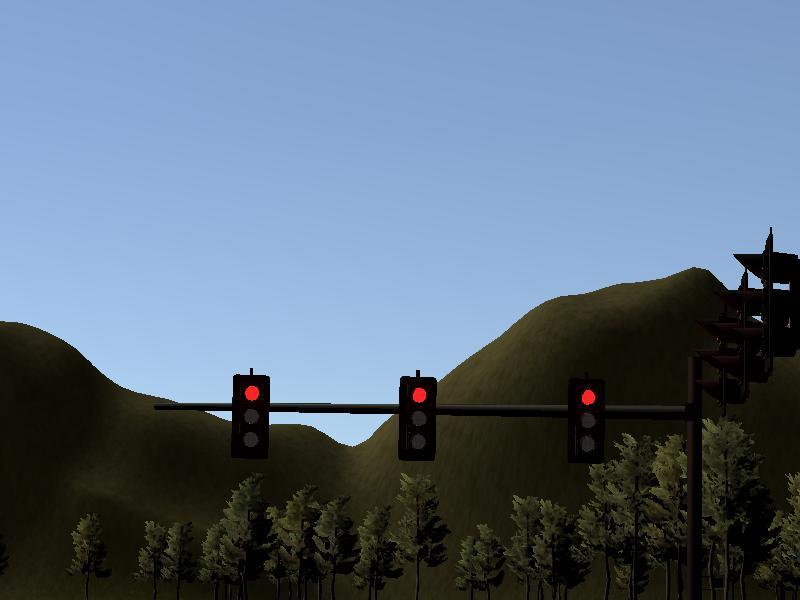Red: (402, 376, 437, 461), (571, 383, 608, 462), (234, 376, 270, 453)
